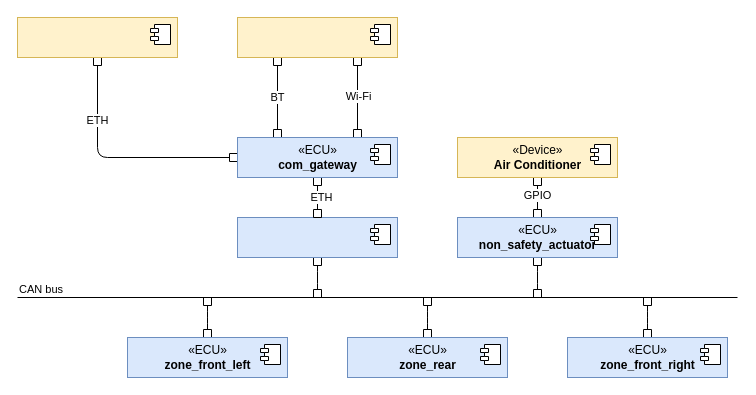
The diagram is 756 pixels wide and 395 high, and some of its shapes have lost their labels. The centre of each missing label's shape, as x and y in pixels:
«Device» HMI: (x=97, y=37)
«Device» Smartphone: (x=317, y=37)
«ECU» infotainment_master: (x=317, y=237)
